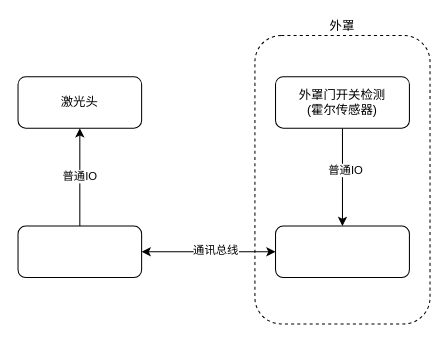
Some shapes in this 448 by 342 pixel diagram are drawn without their labels. The shapes that lost their labels are listed below. From the top down, each one's centre as x and y in pixels, then its label:
At (79,251): "主控".
At (341,251): "外罩控制器".
